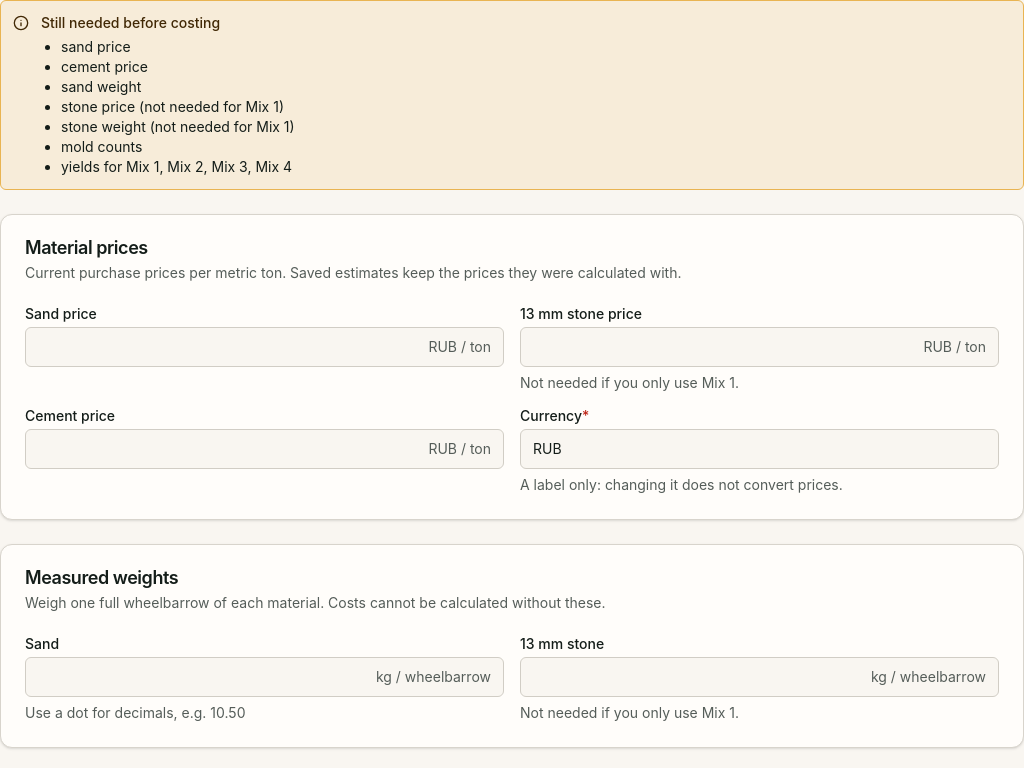
Test: SettingsForm › AT01: shows the error beside the field and saves nothing
In the field labelled "Sand price": (227, 347) [26,328,428,366], type "-5"
(page scrolled)
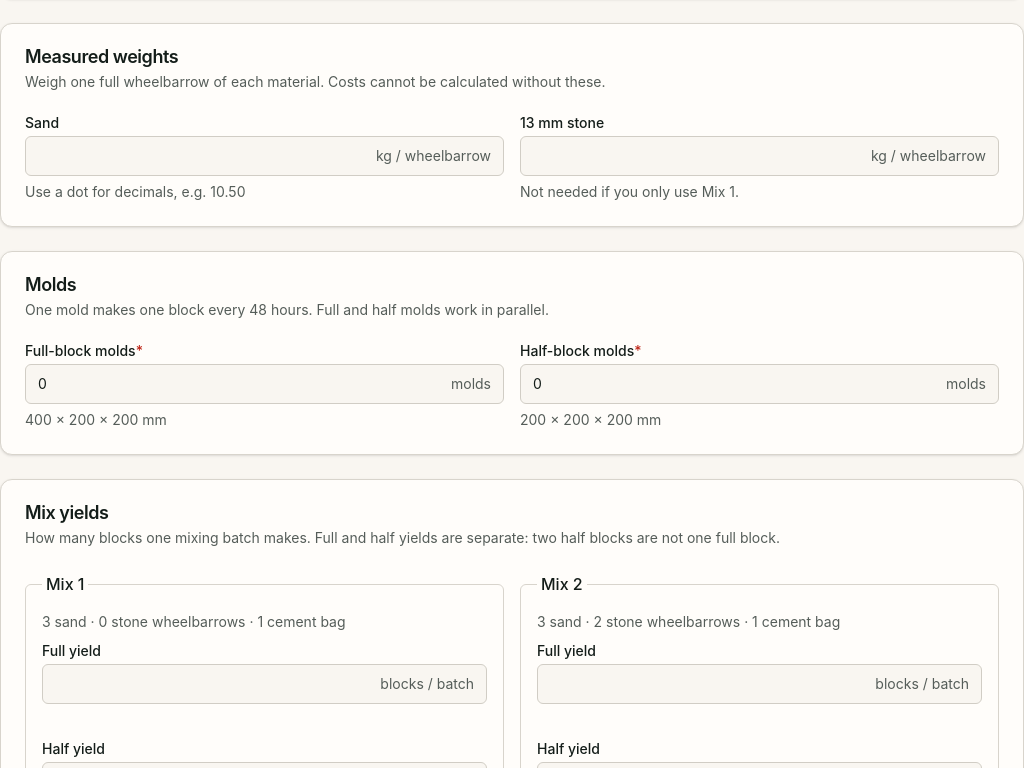
Replace the text in the field labelled "Full-block molds*" with "2.5": (238, 384) [26,365,451,403]
(page scrolled)
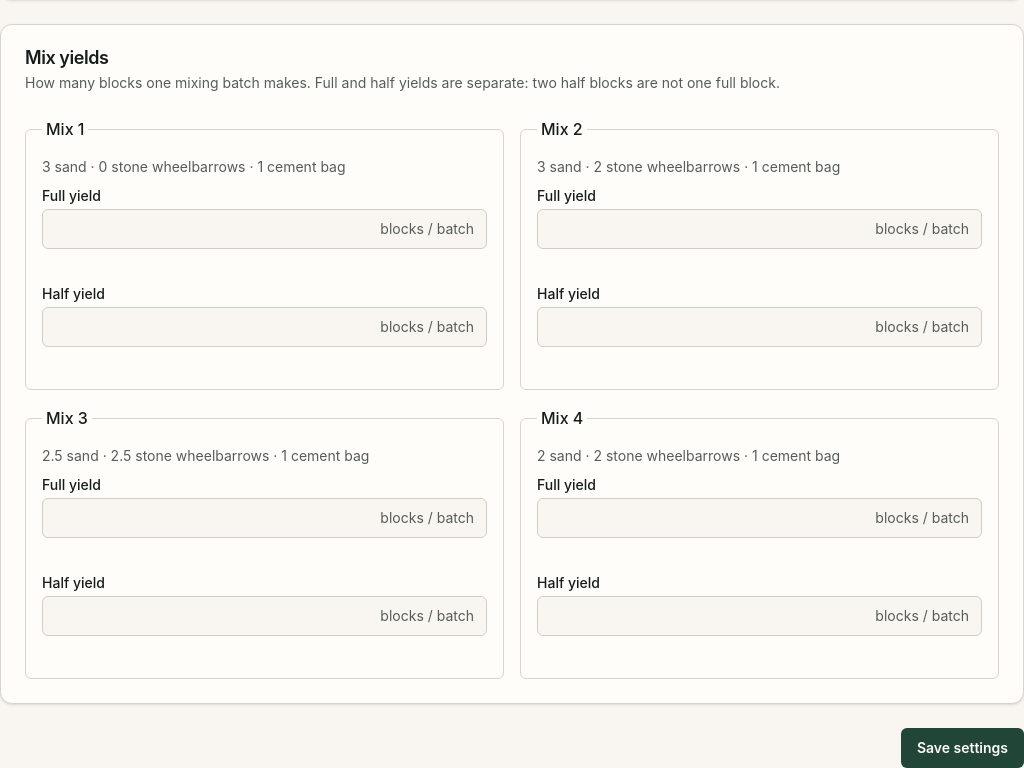
Click the button "Save settings": (962, 748) [901,728,1023,767]
(page scrolled)
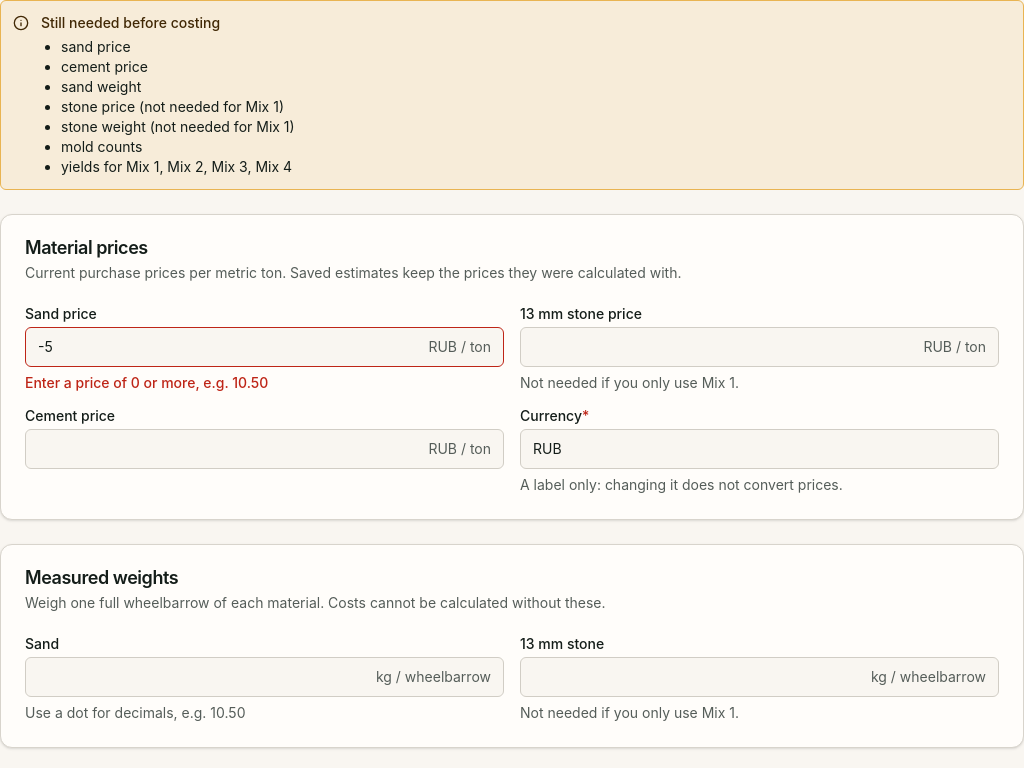
Expected: the field labelled "Sand price" is marked as invalid, [26,328,428,366]
